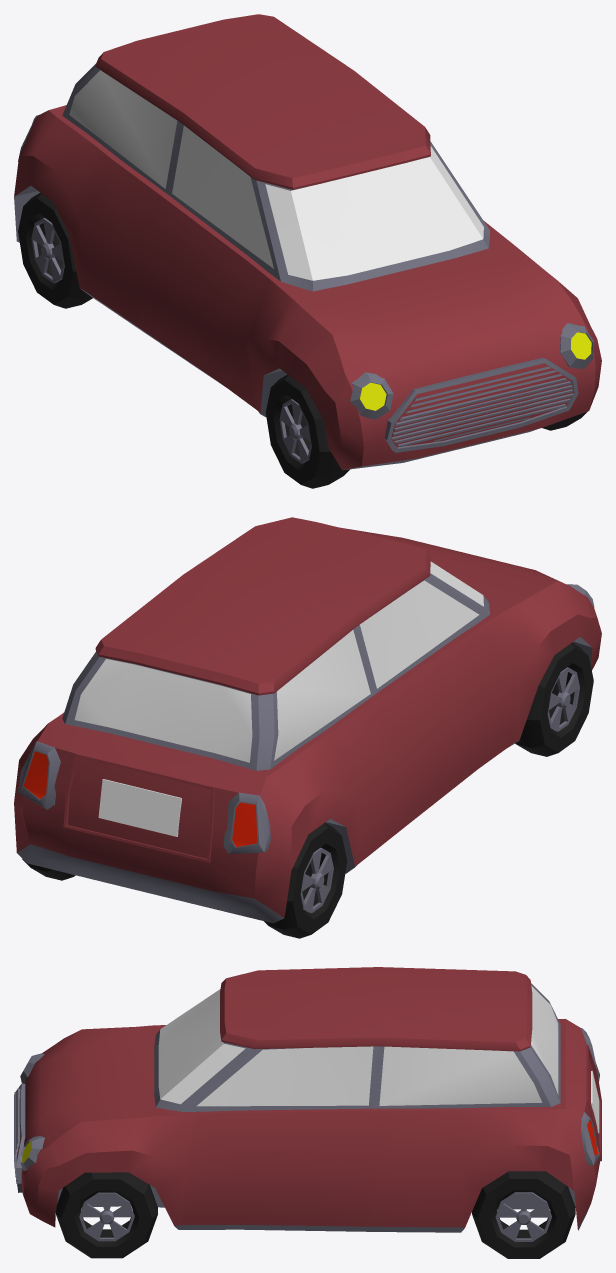
File: Red_Cooper.fbx
3 views of the same model, one above another, from view 1: azimuth 30°, elevation 25°; view 2: azimuth 150°, elevation 25°; view 3: azimuth 270°, elevation 25° (orthographic). The views are drawn at different scales.
Visible parts, largest first — view 1: Cooper Body.001, Cooper Front.R Wheel.001, Cooper Back Wheels.001; view 2: Cooper Body.001, Cooper Back Wheels.001, Cooper Front.R Wheel.001; view 3: Cooper Body.001, Cooper Back Wheels.001, Cooper Front.L Wheel.001.
Boxes of the visible parts, x1,y1,x2,y2 form: Cooper Body.001: (14, 14, 601, 470); Cooper Front.R Wheel.001: (265, 374, 349, 488); Cooper Back Wheels.001: (18, 192, 92, 308); Cooper Body.001: (14, 517, 601, 923); Cooper Back Wheels.001: (22, 823, 347, 938); Cooper Front.R Wheel.001: (515, 643, 593, 756); Cooper Body.001: (14, 967, 601, 1232); Cooper Back Wheels.001: (472, 1171, 575, 1258); Cooper Front.L Wheel.001: (56, 1172, 157, 1258).
Bounding box in the file's own units: 478 × 400 × 1035.
